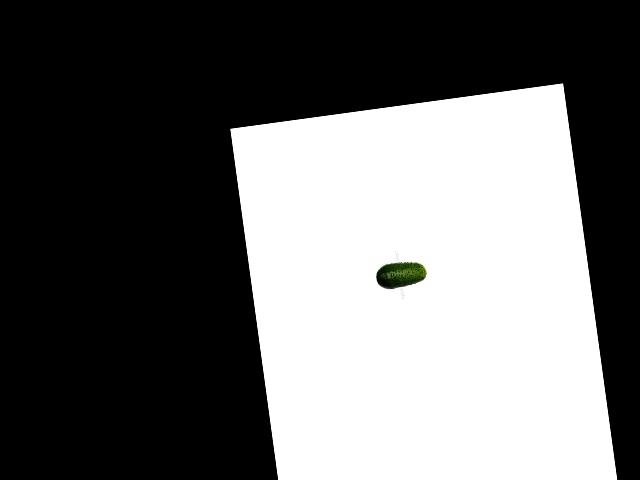cucumber: (374, 258, 428, 290)
